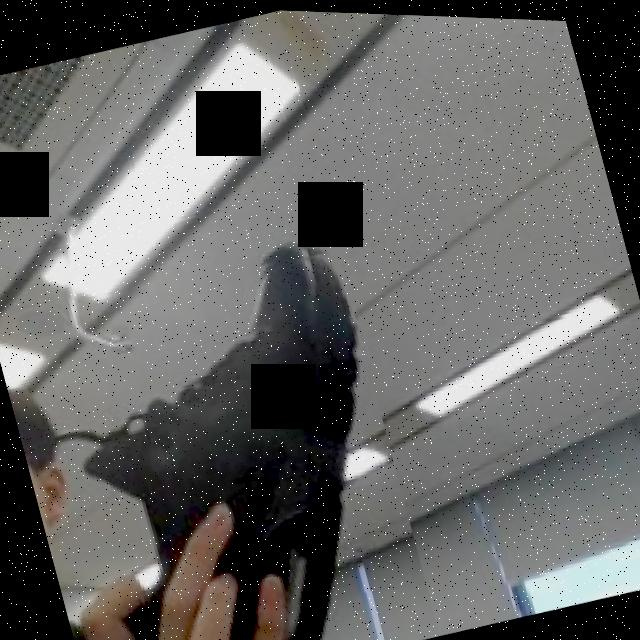shoe: (47, 228, 440, 640)
